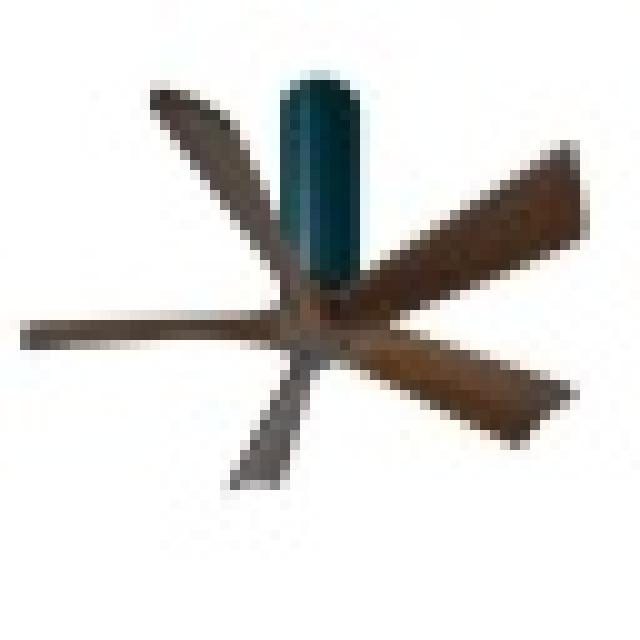Bulb: (18, 95, 618, 498)
